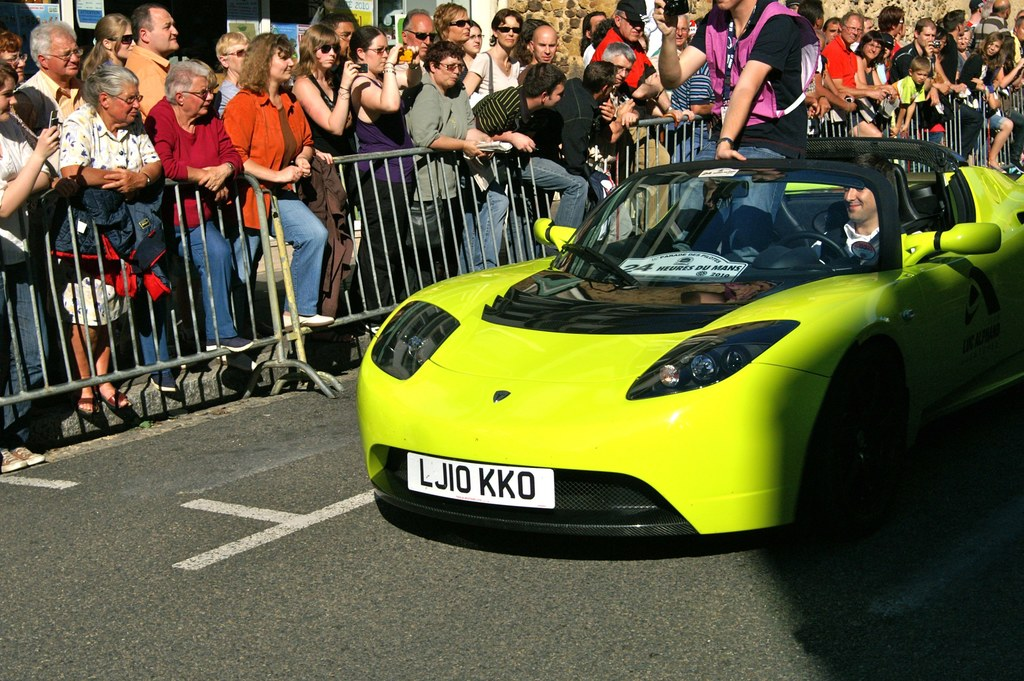Person: (0, 0, 1024, 475)
